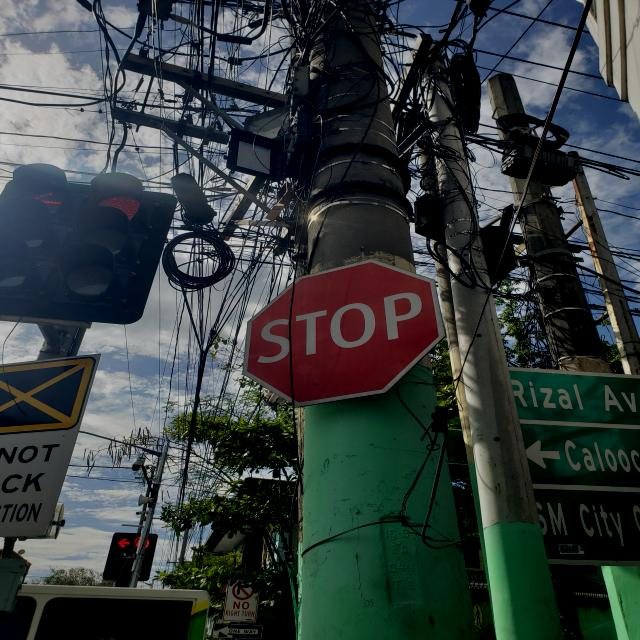stop-sign: (243, 258, 447, 408)
